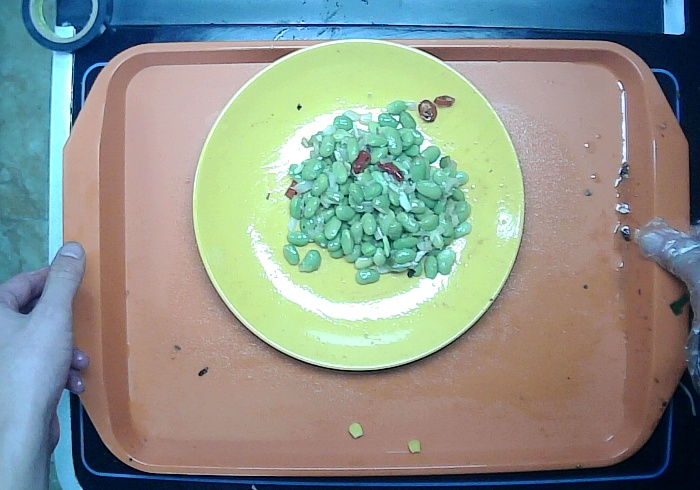HZYJPL-Huang_Se_Yuan_Pan: (182, 32, 528, 377)
